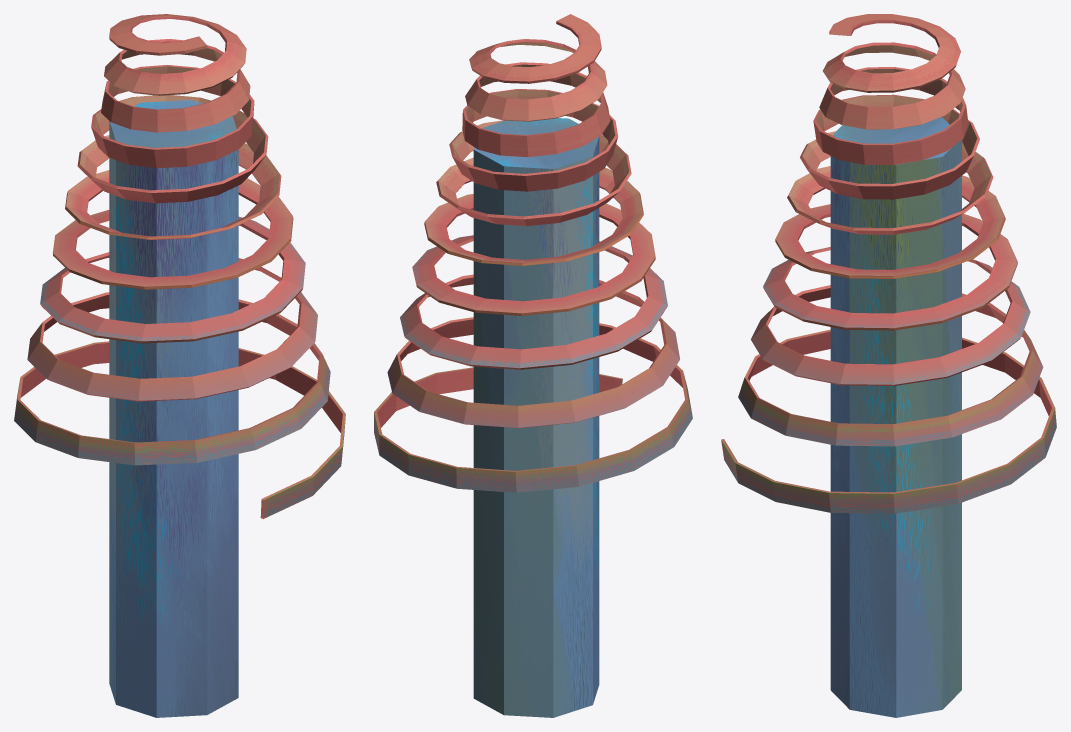
File: baum_twisted.fbx
3 views of the same model, side by side, from view 1: azimuth 30°, elevation 25°; view 2: azimuth 150°, elevation 25°; view 3: azimuth 270°, elevation 25° (orthographic). The views are drawn at different scales.
Visible parts, largest first — view 1: baumstamm, Plane; view 2: baumstamm, Plane; view 3: baumstamm, Plane.
Boxes of the visible parts, <box> form: baumstamm: <box>109,100,238,717</box>; Plane: <box>14,14,345,518</box>; baumstamm: <box>473,118,599,717</box>; Plane: <box>374,14,692,492</box>; baumstamm: <box>830,117,961,717</box>; Plane: <box>721,14,1056,513</box>.
Bounding box in the file's own units: 321 × 714 × 330.
2 materials, 2 textured.
